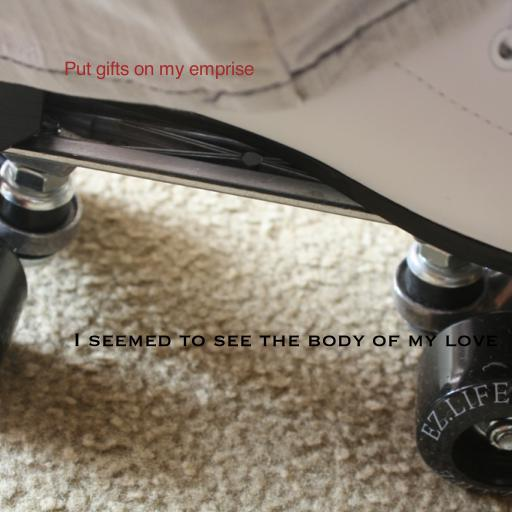Copperplate: (72, 333, 498, 347)
Helvetica: (64, 61, 254, 80)
